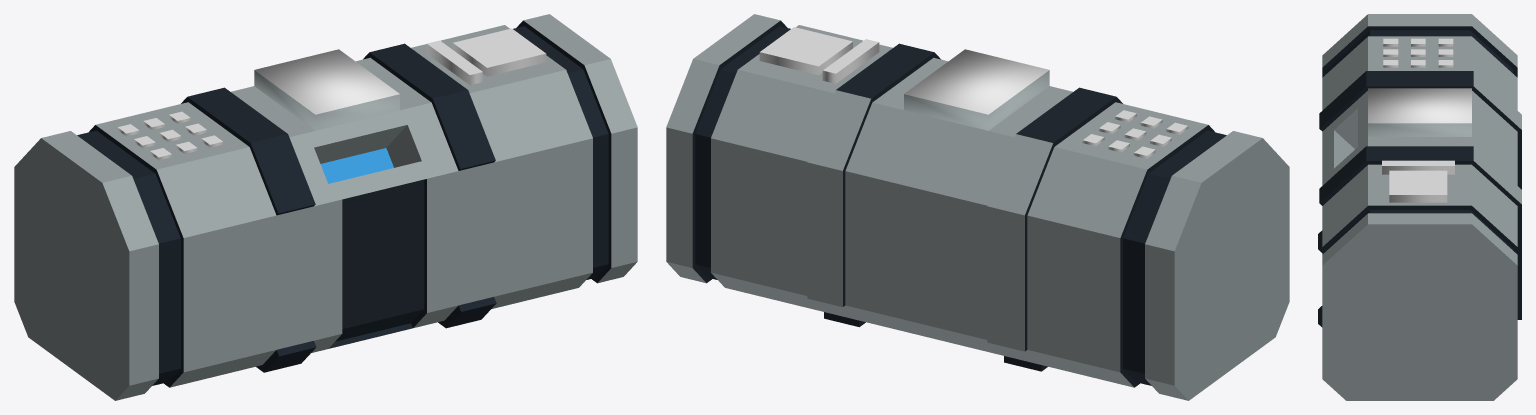
The model's file is Commode.fbx.
The picture shows the model from 3 angles, left to right: view 1: azimuth 30°, elevation 25°; view 2: azimuth 150°, elevation 25°; view 3: azimuth 270°, elevation 25°; orthographic projection. The views are drawn at different scales.
Parts seen in each view (by area): view 1: Commode; view 2: Commode; view 3: Commode.
Part boxes in pixels (x1,y1,x2,y2): Commode: [14, 14, 637, 400]; Commode: [666, 14, 1289, 400]; Commode: [1318, 14, 1521, 400].
Bounding box in the file's own units: 1.83 × 0.7964 × 0.7501.
